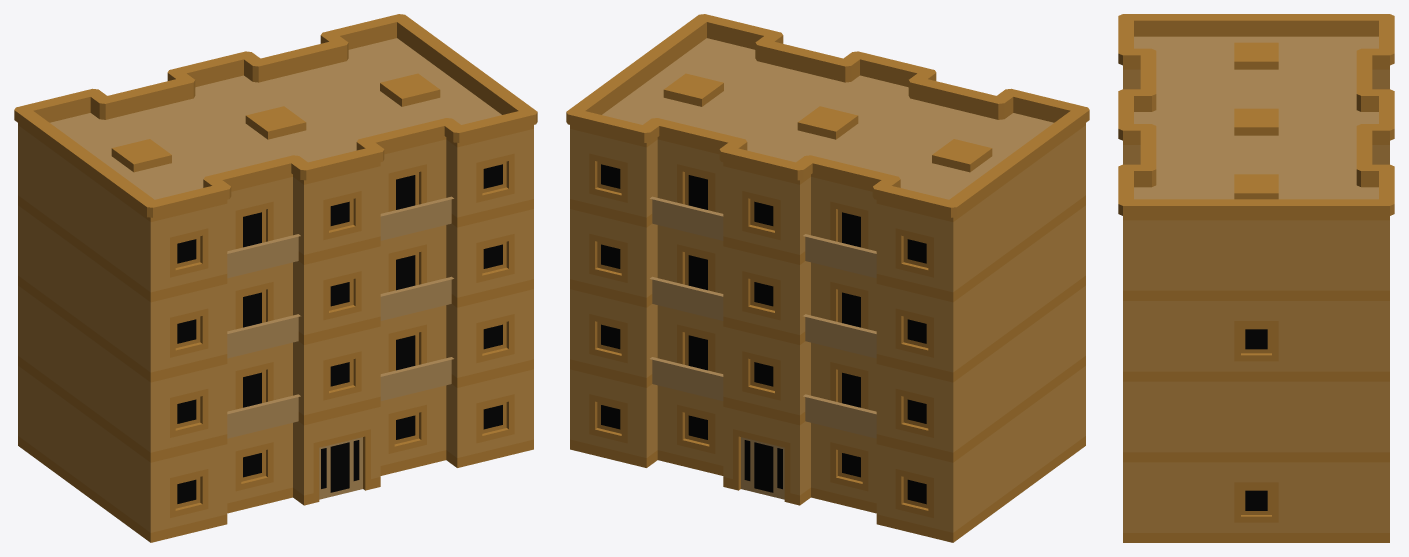
File: building1.glb
3 renders of one model, left to right at view 1: azimuth 30°, elevation 25°; view 2: azimuth 150°, elevation 25°; view 3: azimuth 270°, elevation 25°, orthographic.
Size of the model in its own units: 20.4 by 16.8 by 12.4.
